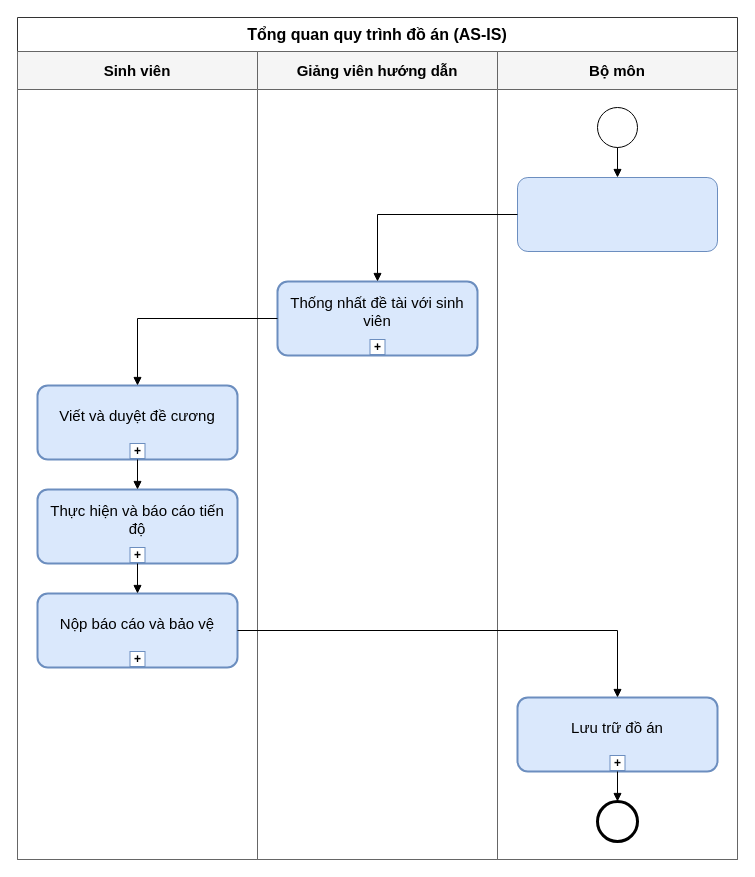
The diagram is 755 pixels wide and 877 high, and some of its shapes have lost their labels. The shapes that lost their labels are listed below. From the top down, each one's centre as x and y in pixels, then its label:
At (x=617, y=127): "Bắt đầu đợt".
At (x=617, y=214): "Thông báo đợt, phân công GVHD (bảng tính, email)".
At (x=617, y=821): "Kết thúc".
